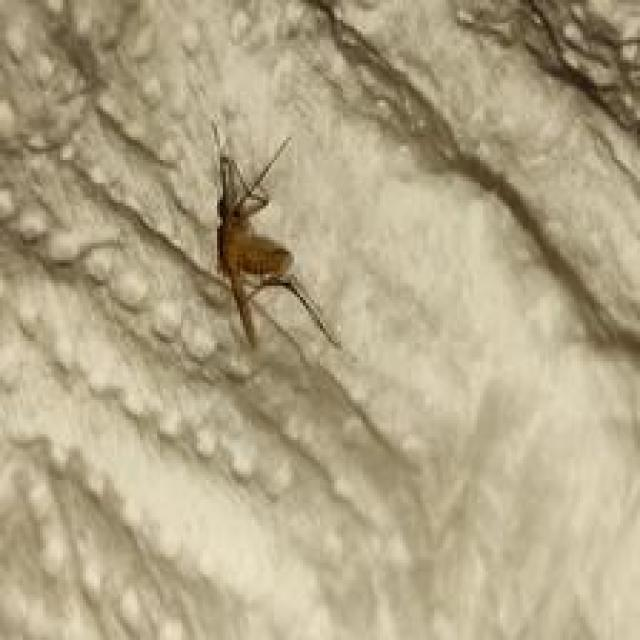Culex: (207, 118, 344, 356)
